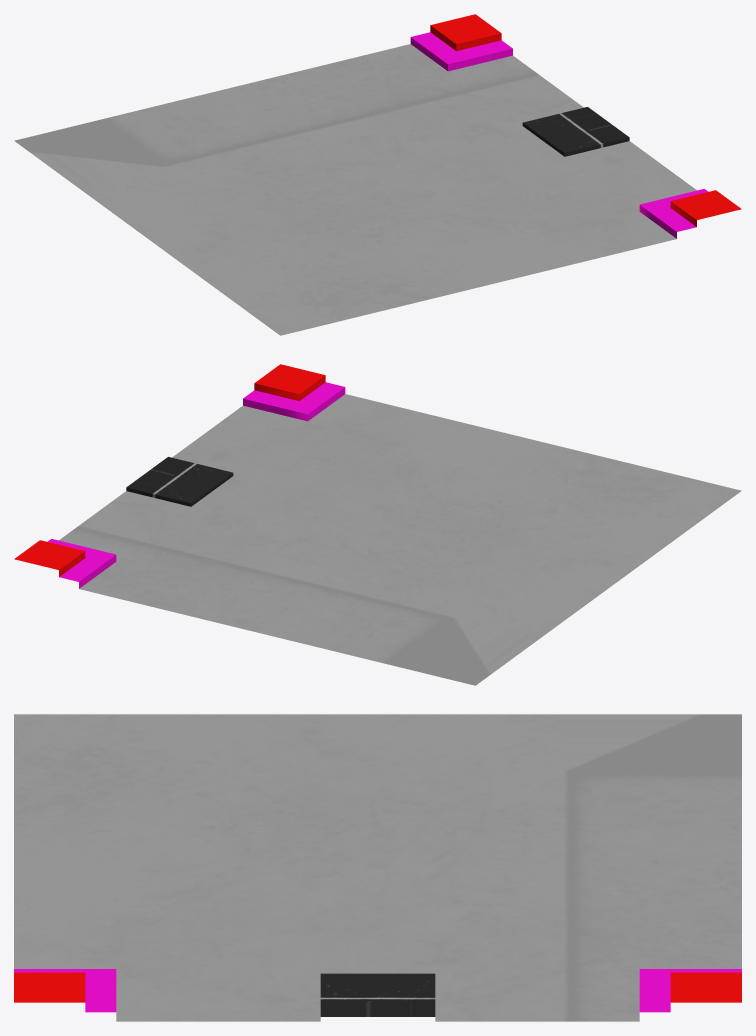
File: Floor-Entrance.fbx
The picture shows the model from 3 angles, top to bottom: view 1: azimuth 30°, elevation 25°; view 2: azimuth 150°, elevation 25°; view 3: azimuth 270°, elevation 25°; orthographic projection. The views are drawn at different scales.
Parts seen in each view (by area): view 1: Entrance; view 2: Entrance; view 3: Entrance.
Boxes of the visible parts, x1=… form: Entrance: x1=14, y1=14, x2=741, y2=335; Entrance: x1=14, y1=364, x2=741, y2=685; Entrance: x1=14, y1=714, x2=741, y2=1021.
Bounding box in the file's own units: 78.74 × 2.28 × 78.74.
Materials: 4 (2 with a texture image).
